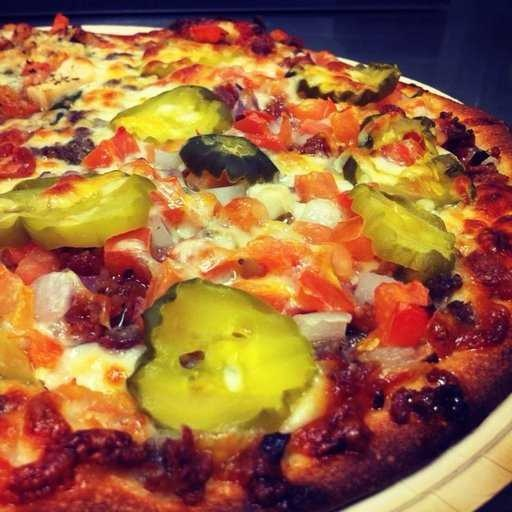pizza: (1, 32, 488, 512)
